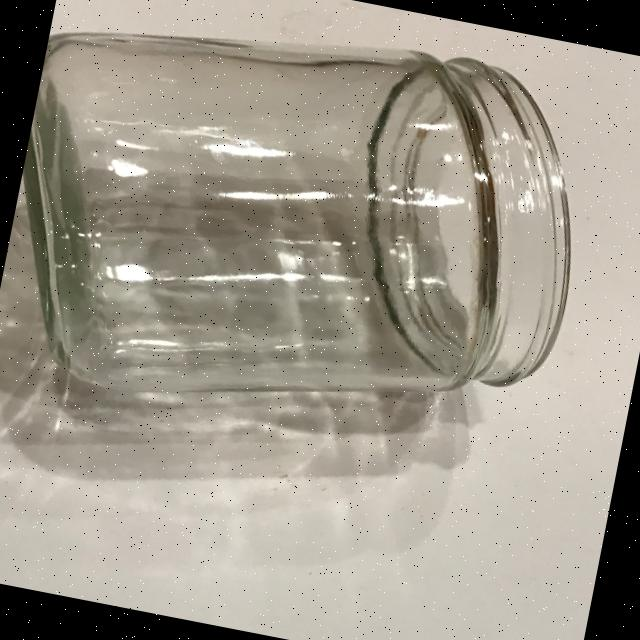glass: (0, 0, 609, 473)
